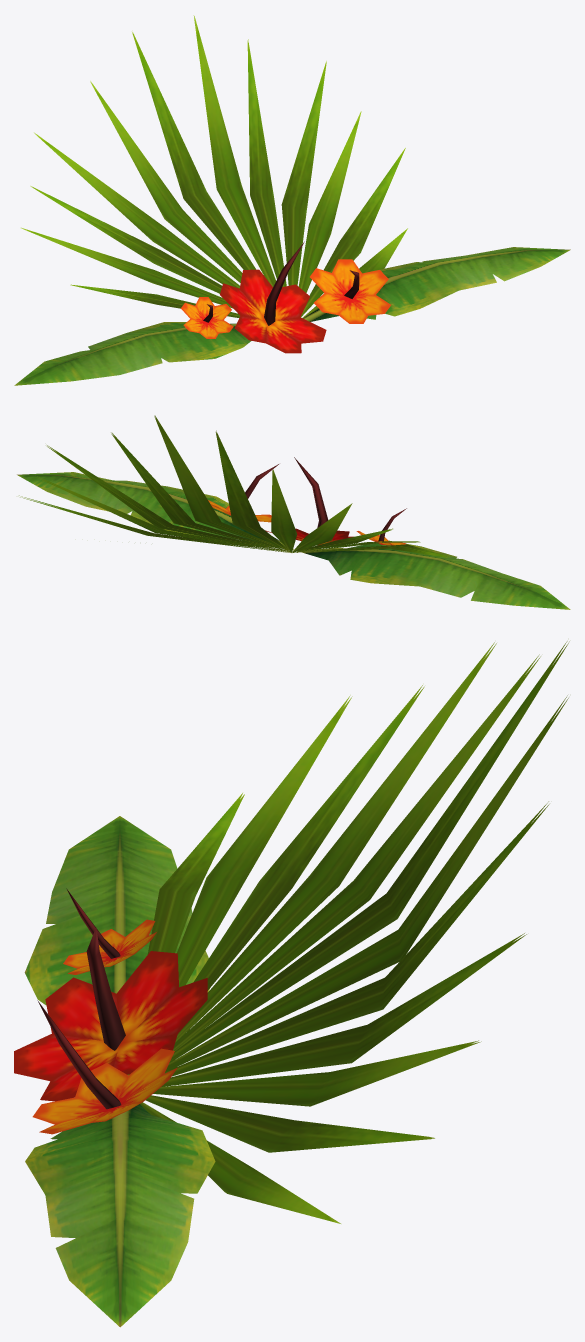
The model's file is FlowerDecoration_02.FBX.
The picture shows the model from 3 angles, top to bottom: view 1: azimuth 30°, elevation 25°; view 2: azimuth 150°, elevation 25°; view 3: azimuth 270°, elevation 25°; orthographic projection. The views are drawn at different scales.
Visible parts, largest first — view 1: FlowerDecoration_02; view 2: FlowerDecoration_02; view 3: FlowerDecoration_02.
Boxes of the visible parts, x1,y1,x2,y2 form: FlowerDecoration_02: [14, 15, 570, 385]; FlowerDecoration_02: [17, 415, 570, 609]; FlowerDecoration_02: [14, 641, 569, 1327].
Bounding box in the file's own units: 1.21 × 0.5576 × 0.4609.
